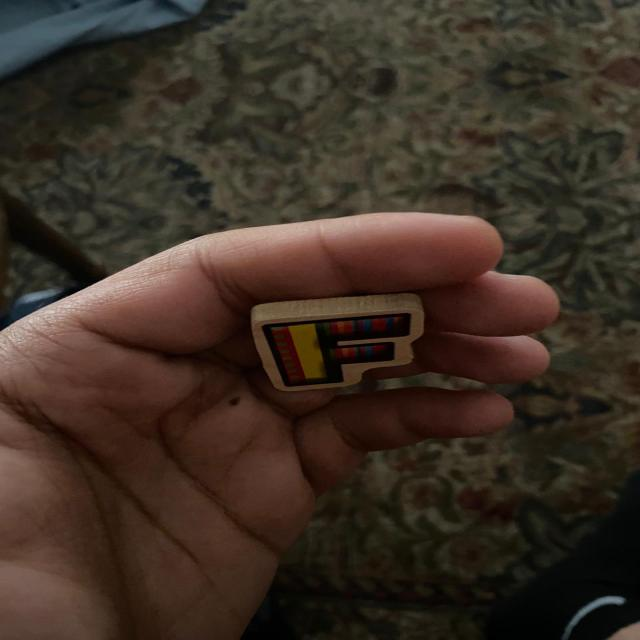F: (251, 294, 423, 392)
